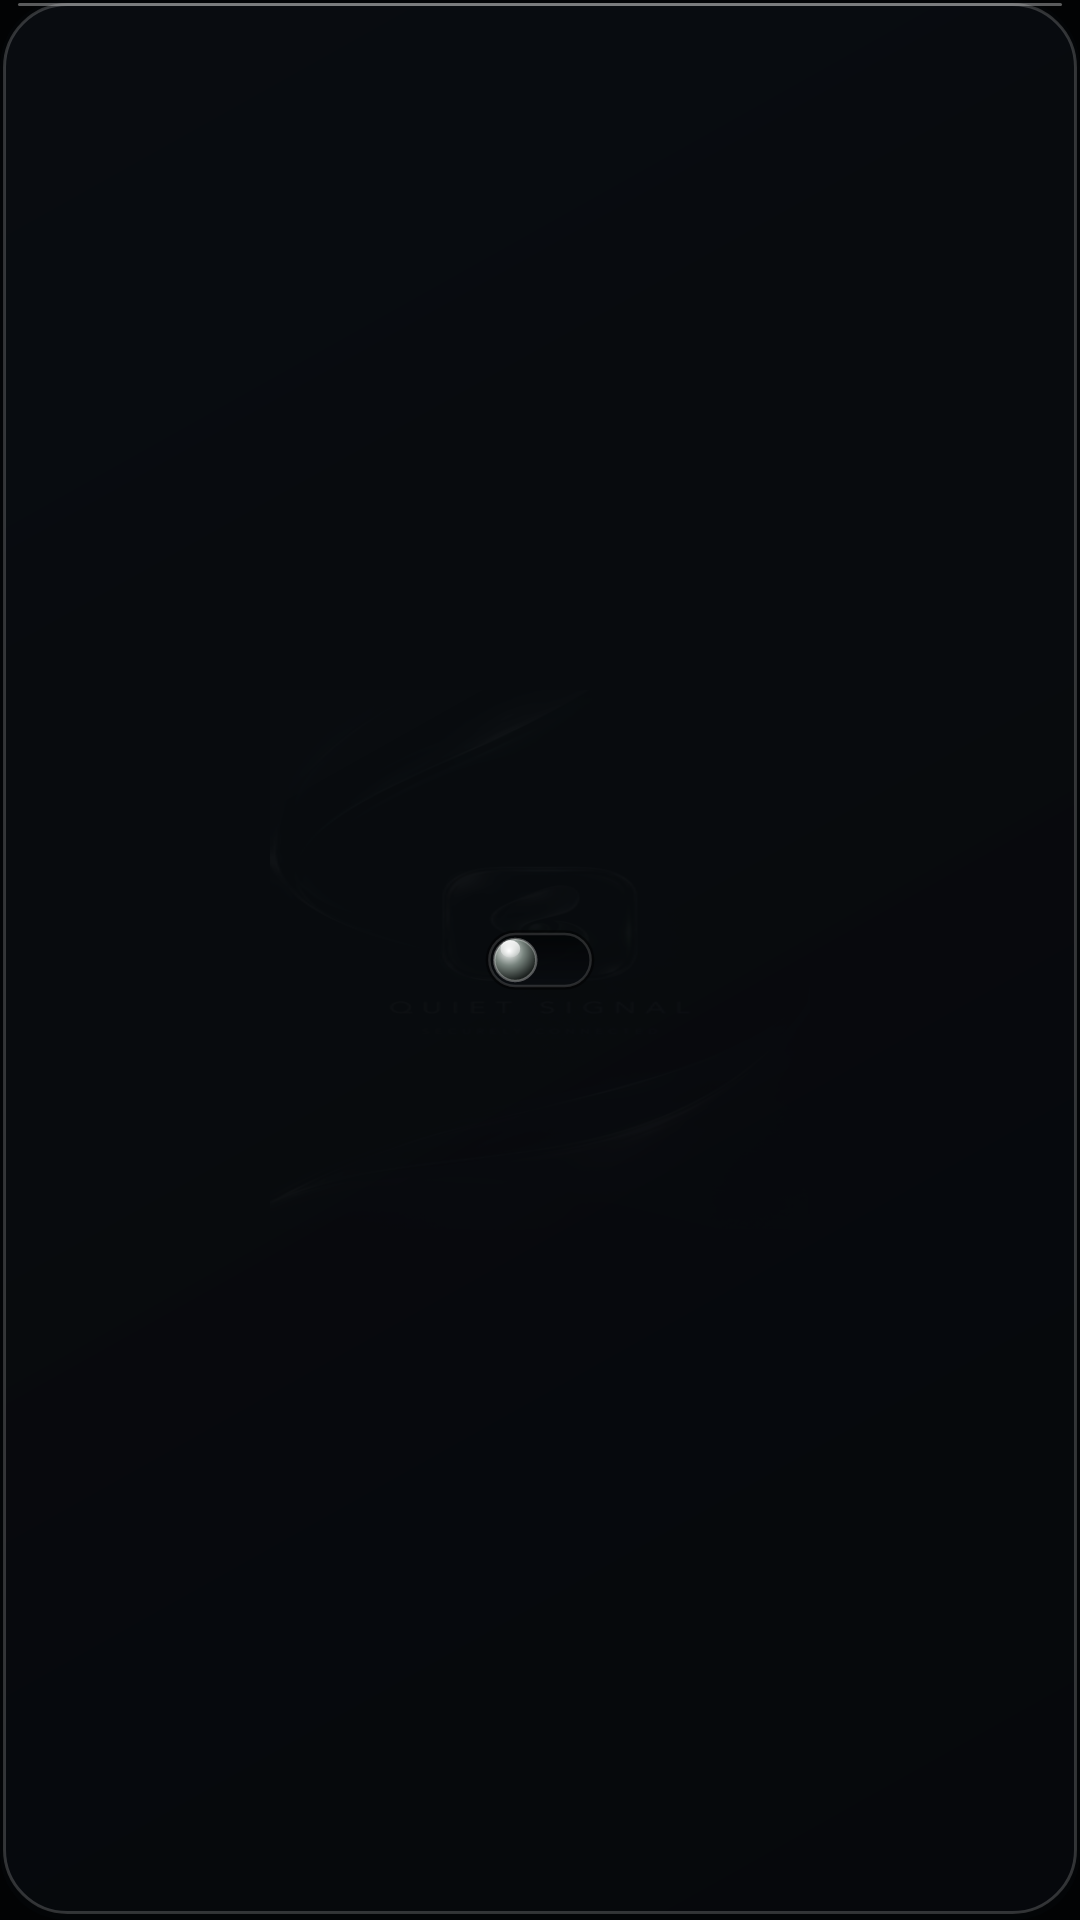

Locate icon controls on the screen. Image size 1080 x 1920, boxes as (x1, y1, x2, y2).
Toggle Tailscale VPN: (488, 933, 592, 987)
